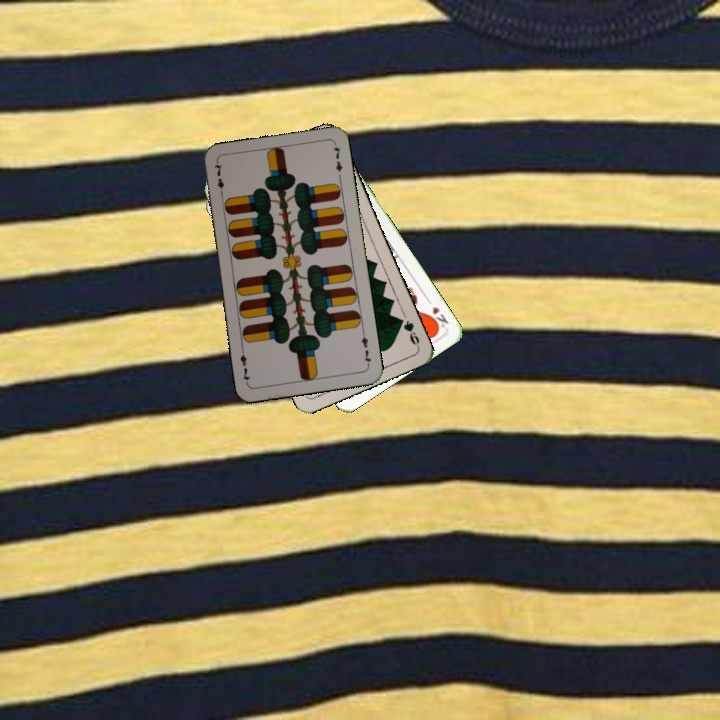E7: (357, 328, 374, 368), (210, 159, 226, 199)
G9: (394, 314, 422, 349)
HK: (422, 294, 451, 333)
